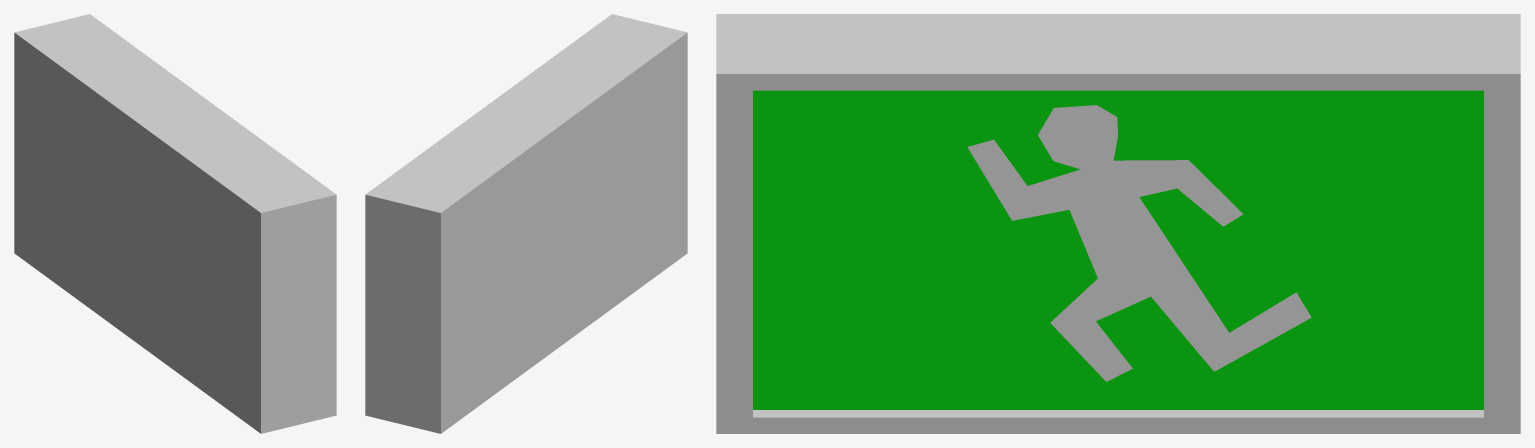
The model's file is hijouguti.fbx.
3 renders of one model, left to right at view 1: azimuth 30°, elevation 25°; view 2: azimuth 150°, elevation 25°; view 3: azimuth 270°, elevation 25°, orthographic. The views are drawn at different scales.
Parts seen in each view (by area): view 1: Plane.015; view 2: Plane.015; view 3: Plane.015.
Boxes of the visible parts, x1,y1,x2,y2 form: Plane.015: (14, 14, 336, 433); Plane.015: (365, 14, 687, 433); Plane.015: (716, 14, 1520, 433).
Size of the model in its own units: 13.56 by 37.85 by 76.65.
